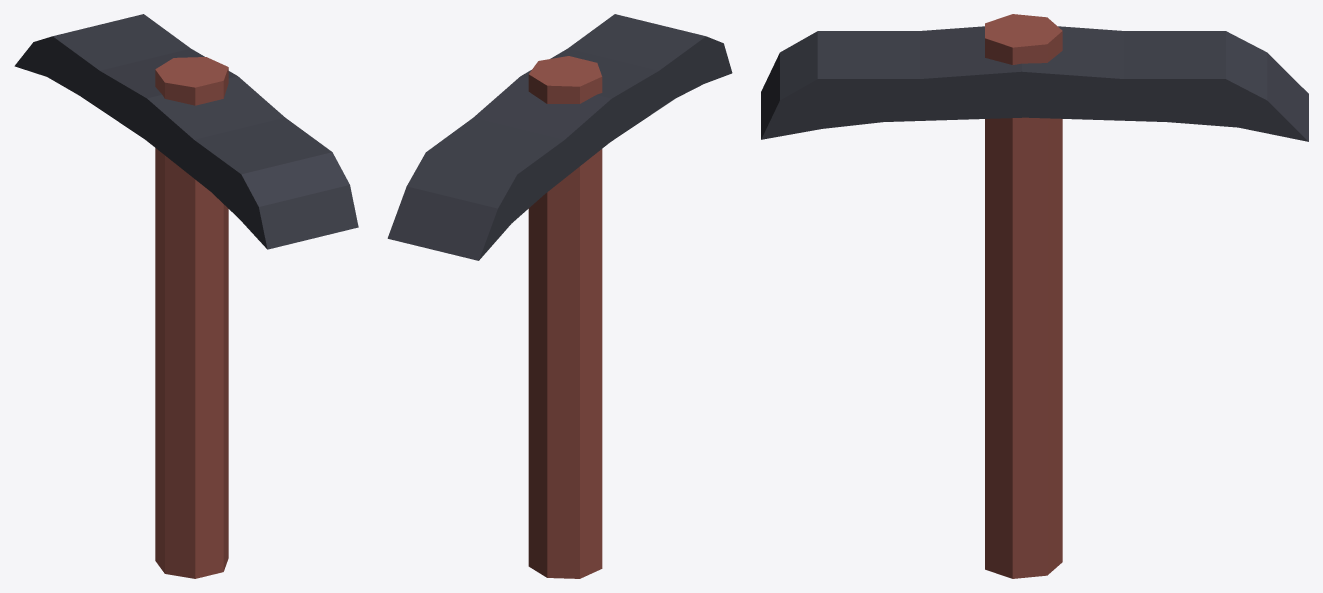
Rendered from Picke.fbx.
3 renders of one model, left to right at view 1: azimuth 30°, elevation 25°; view 2: azimuth 150°, elevation 25°; view 3: azimuth 270°, elevation 25°, orthographic. The views are drawn at different scales.
Parts seen in each view (by area): view 1: Cylinder; view 2: Cylinder; view 3: Cylinder.
Part boxes in pixels (left/top/right/bottom): Cylinder: left=14, top=14, right=358, bottom=578; Cylinder: left=387, top=14, right=732, bottom=578; Cylinder: left=761, top=14, right=1308, bottom=578.
Size of the model in its own units: 0.558 by 2.87 by 2.68.
